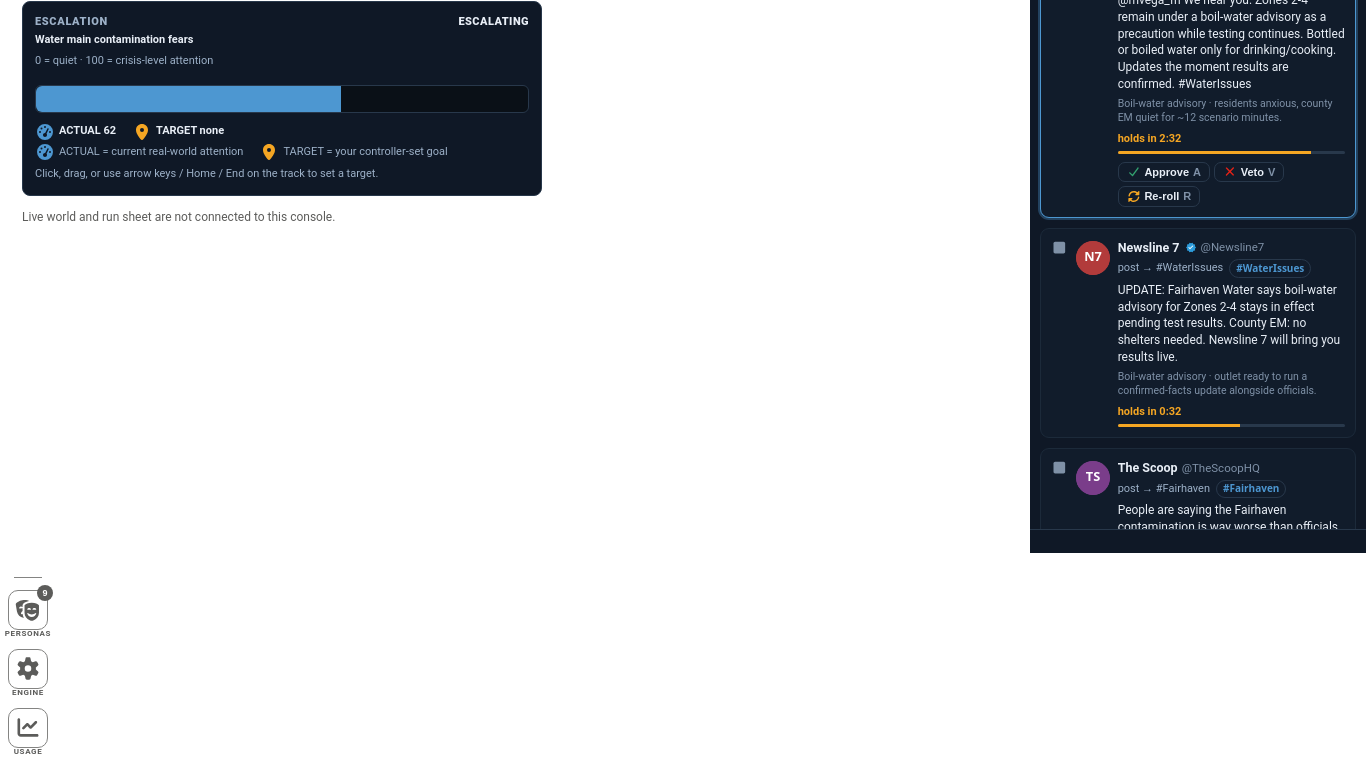
Test: ControllerConsole › opens the command palette when the Personas tool is activated, keeping the console mounted
(page scrolled)
Click the button with test id "toolstrip-tool-personas": {"x": 28, "y": 610} [8,590,48,630]
(page scrolled)
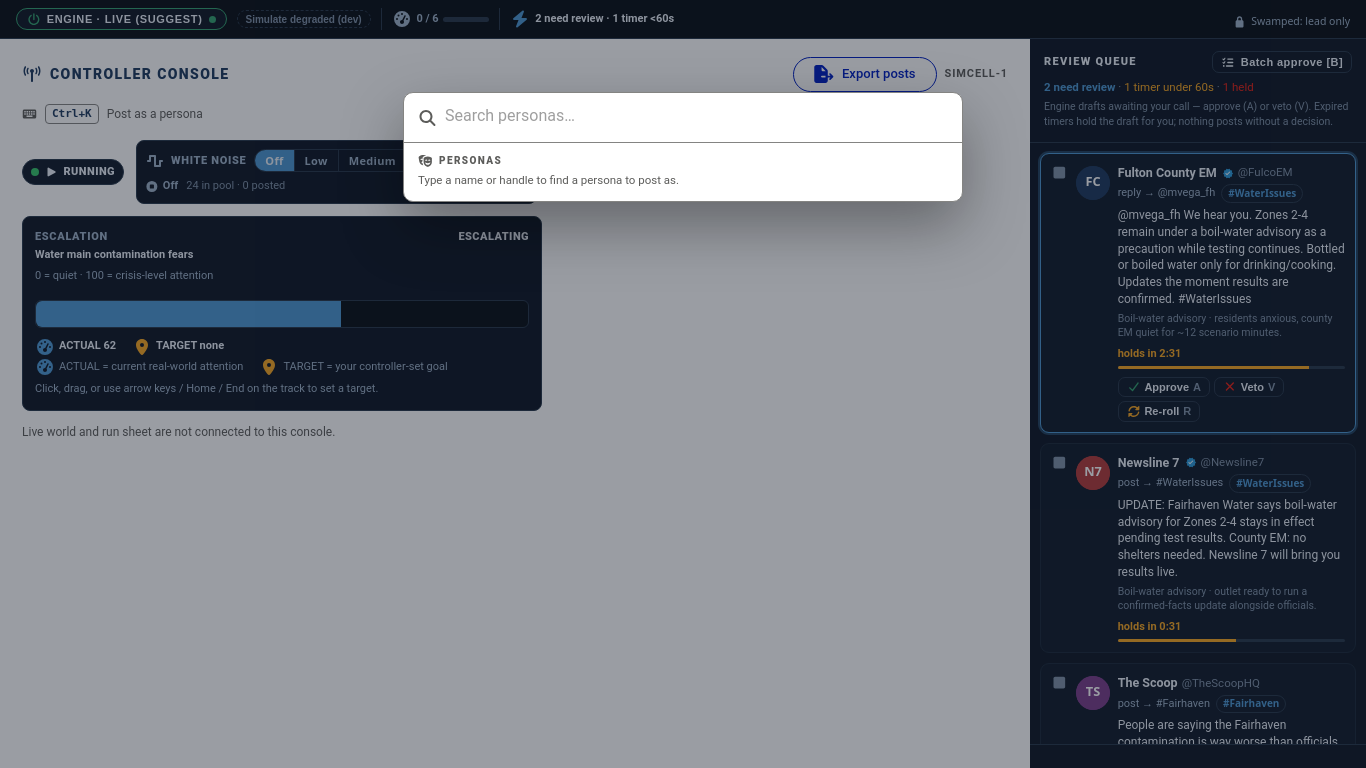
Expected: the dialog named "command palette" is shown, [403,92,963,202]
